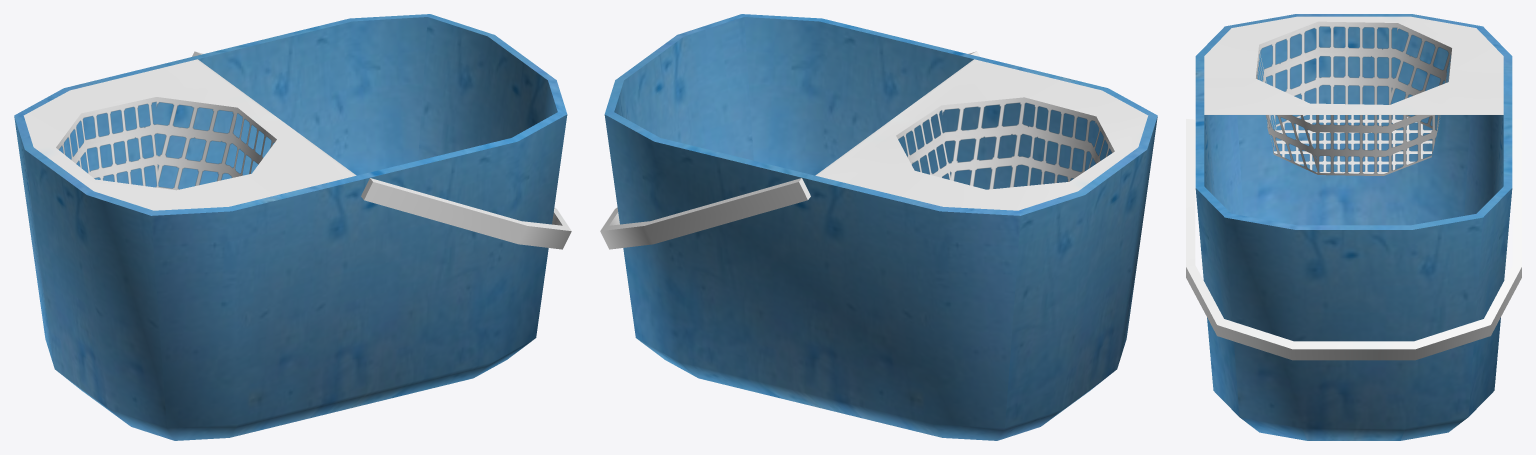
The model's file is Bote-col.glb.
The picture shows the model from 3 angles, left to right: view 1: azimuth 30°, elevation 25°; view 2: azimuth 150°, elevation 25°; view 3: azimuth 270°, elevation 25°; orthographic projection. The views are drawn at different scales.
Parts seen in each view (by area): view 1: Bote-col; view 2: Bote-col; view 3: Bote-col.
Boxes of the visible parts, bbox=[...] form: Bote-col: bbox=[14, 14, 571, 440]; Bote-col: bbox=[600, 14, 1157, 440]; Bote-col: bbox=[1186, 14, 1521, 440].
Bounding box in the file's own units: 0.5892 × 0.3002 × 0.3872.
Materials: 2 (2 with a texture image).
